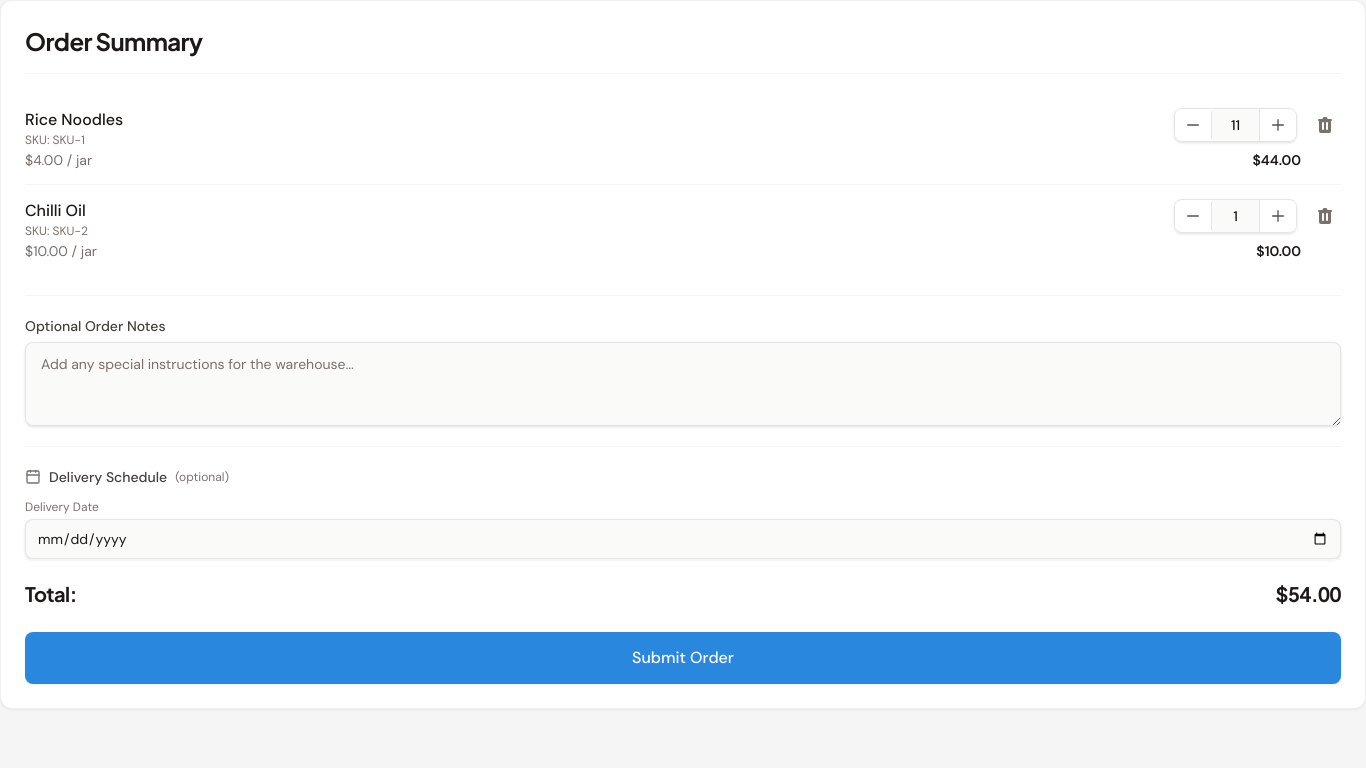
Scenario: OrderSummary — Submit for a kitchen (QR Staff) › "Send anyway" submits exactly once and closes the warning
Click the button "Submit Order" at (683, 658), box [25,632,1341,684]
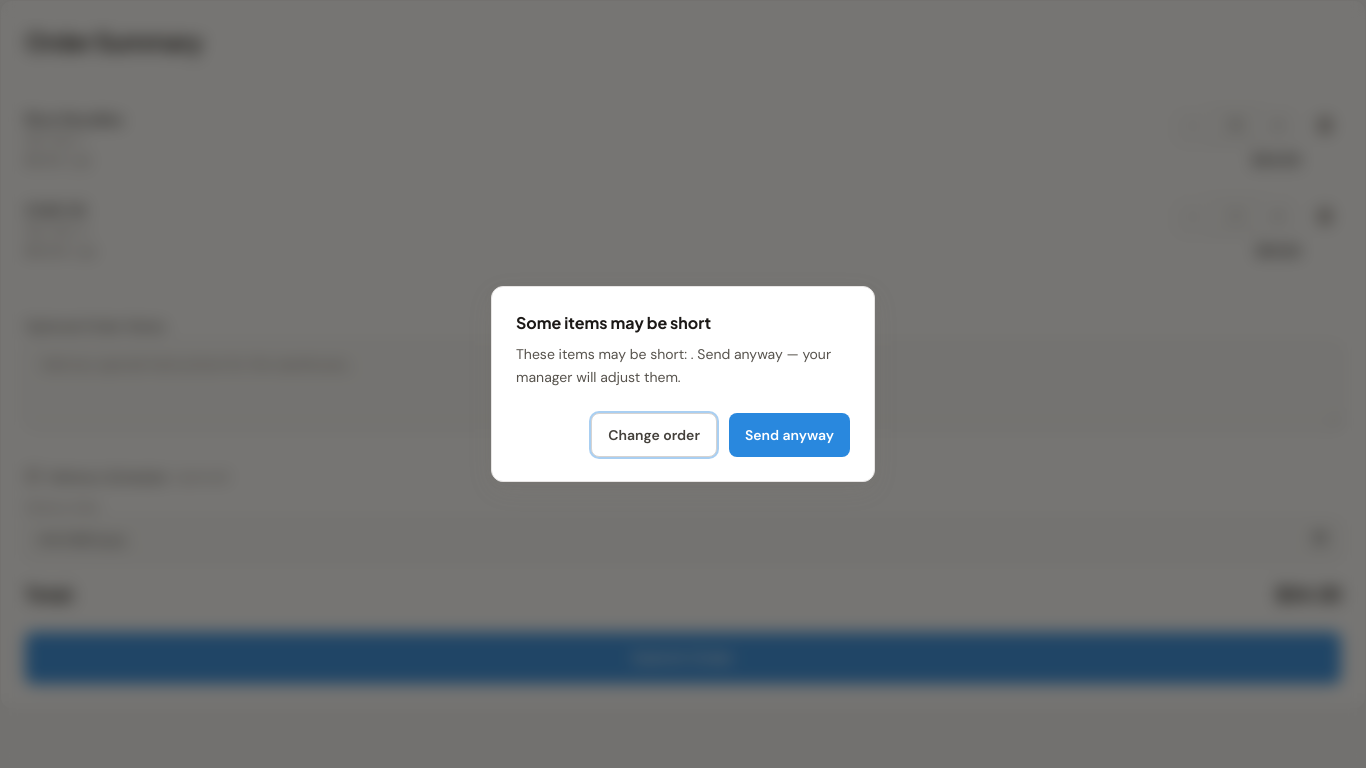
Click the button "Send anyway" at (790, 435), box [729,413,850,457]
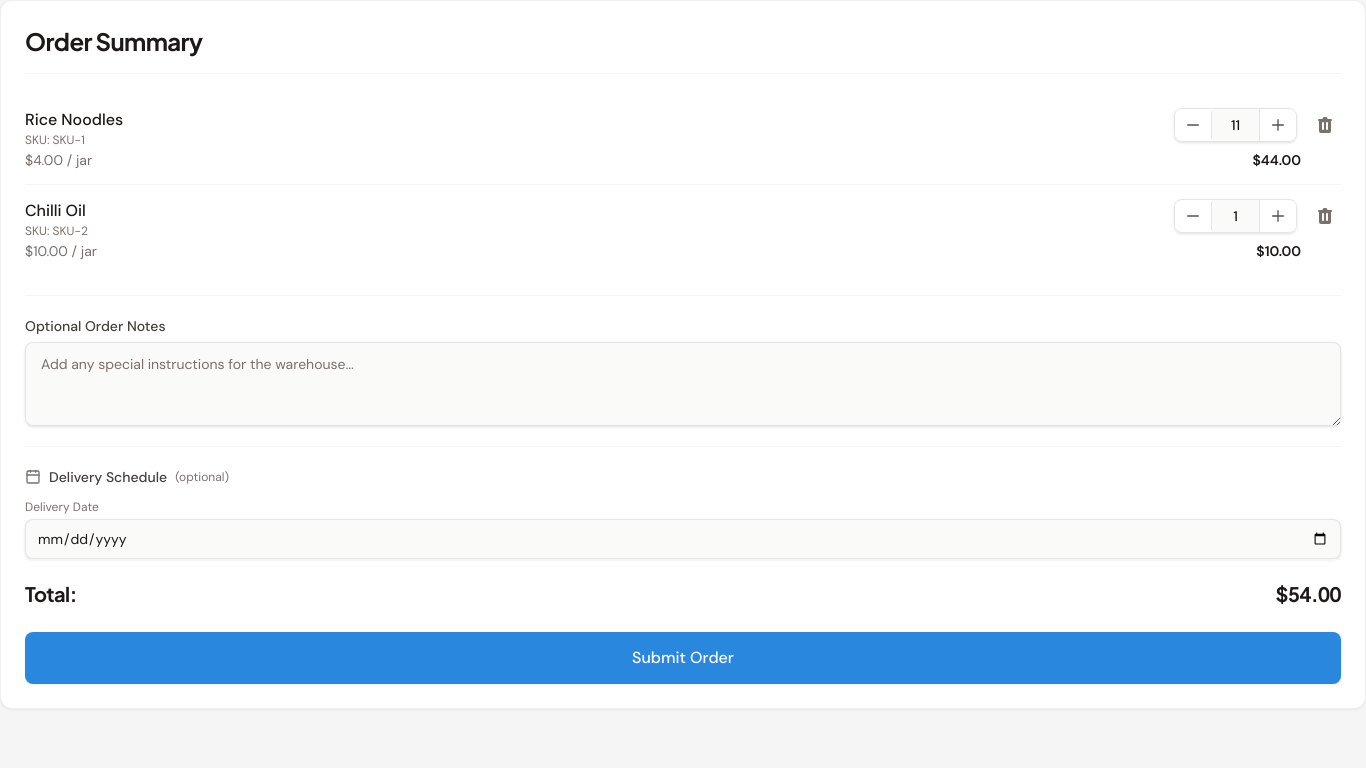
Check: the dialog is gone
